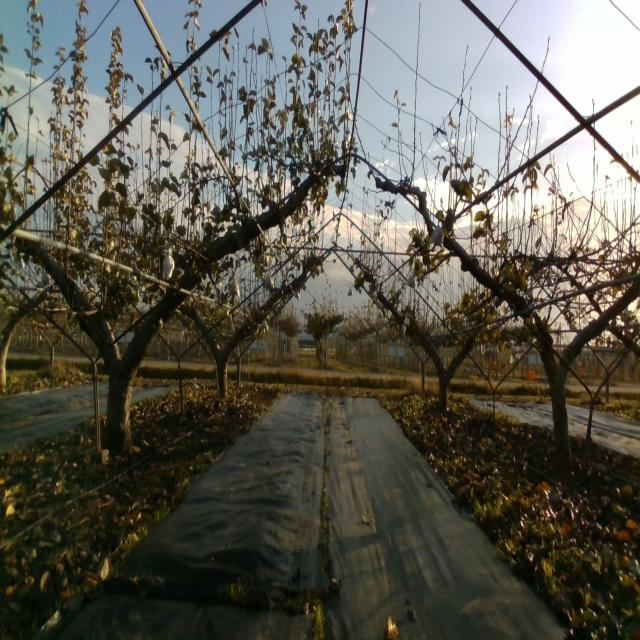pearbags: (163, 249, 175, 280), (428, 226, 444, 249), (228, 279, 240, 296)
